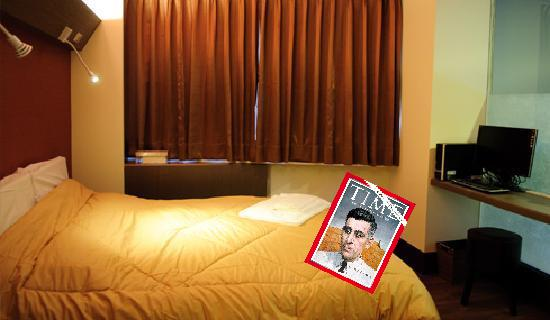times: (302, 170, 417, 294)
